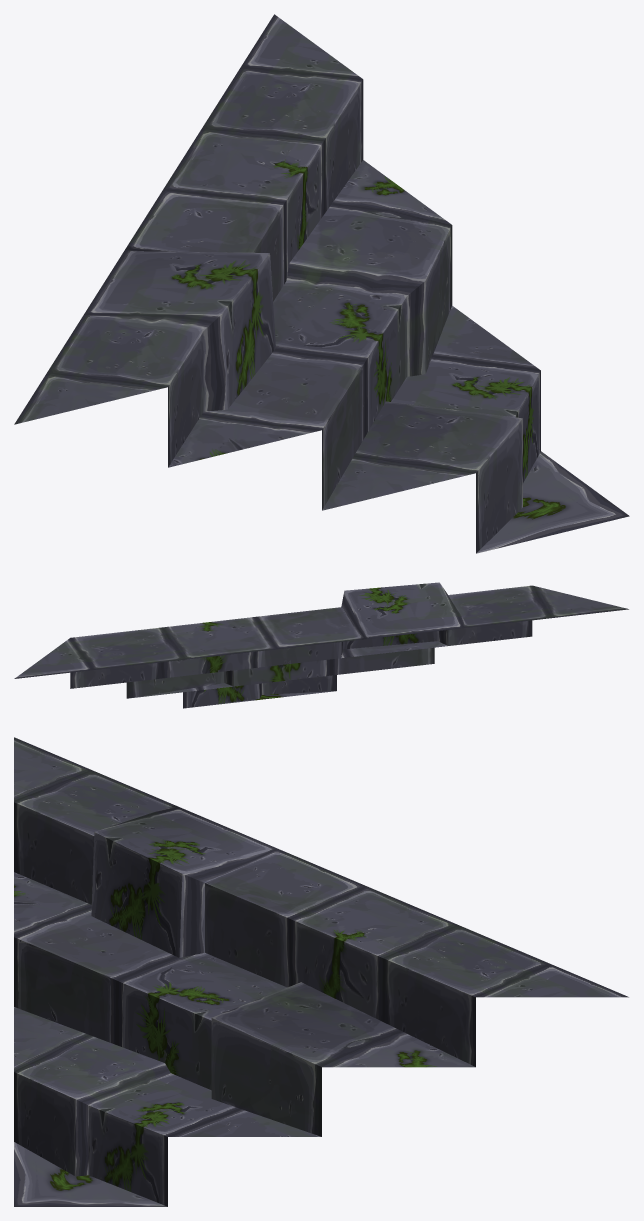
Rendered from MOD_Stairs_01_E_angle_concave_4.fbx.
3 renders of one model, top to bottom at view 1: azimuth 30°, elevation 25°; view 2: azimuth 150°, elevation 25°; view 3: azimuth 270°, elevation 25°, orthographic. The views are drawn at different scales.
Visible parts, largest first — view 1: MOD_Stairs_01_E_angle_concave_4; view 2: MOD_Stairs_01_E_angle_concave_4; view 3: MOD_Stairs_01_E_angle_concave_4.
Boxes of the visible parts, box(x1,y1,x2,y2) form: MOD_Stairs_01_E_angle_concave_4: box(14, 14, 629, 553); MOD_Stairs_01_E_angle_concave_4: box(14, 582, 628, 708); MOD_Stairs_01_E_angle_concave_4: box(14, 737, 628, 1206).
Size of what is drawn, in the model's own units: 200 by 79.47 by 200.
